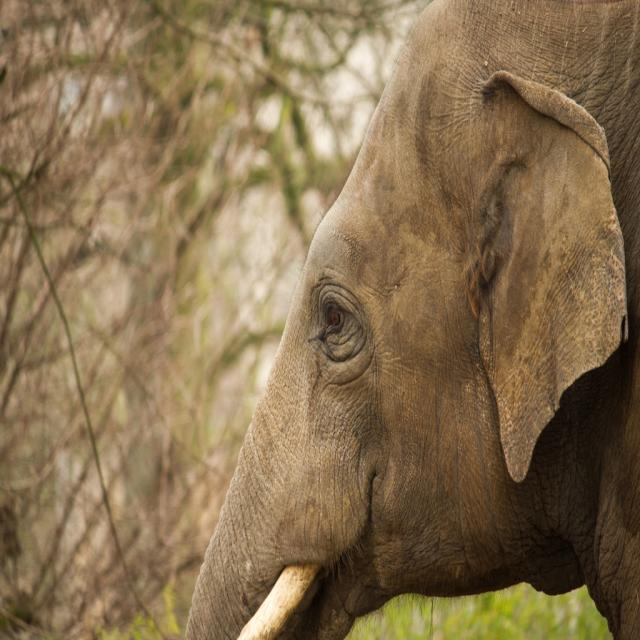Elephant: (182, 0, 639, 639)
